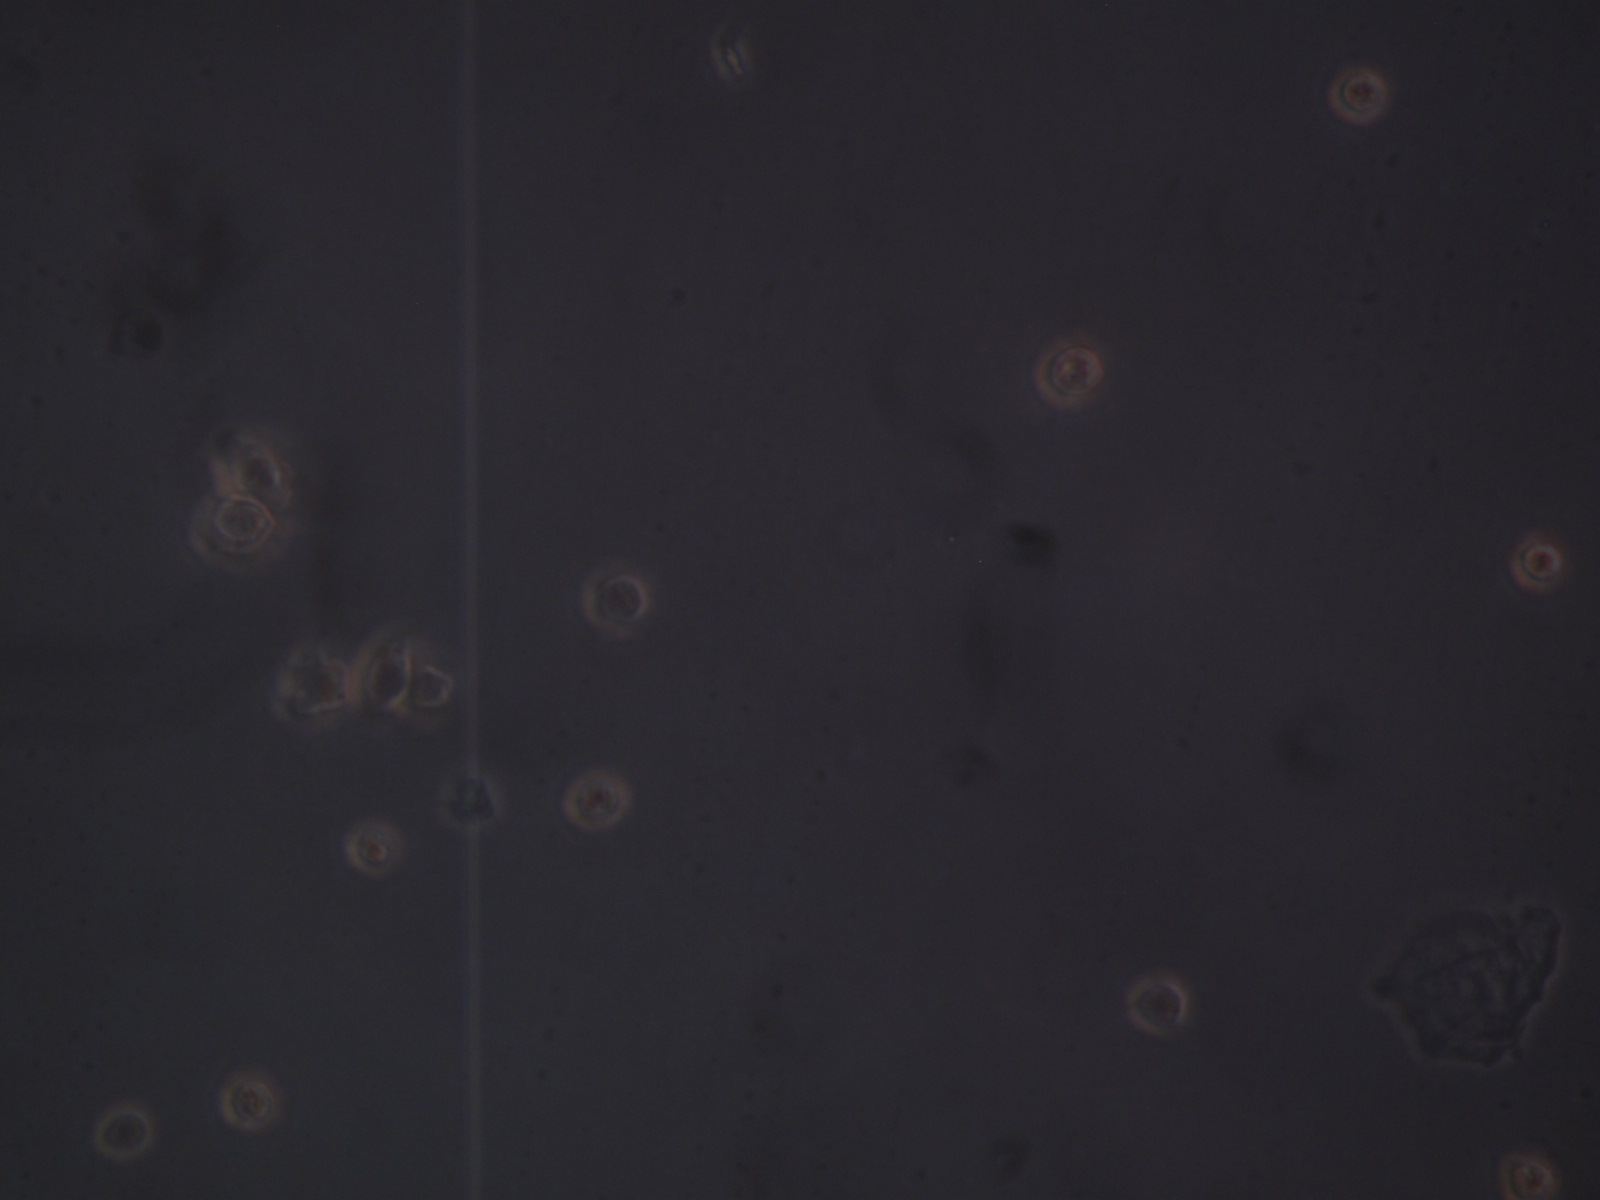hemo: (270, 643, 350, 730), (190, 490, 273, 562), (351, 632, 409, 713), (582, 563, 649, 634), (1036, 339, 1102, 407), (564, 771, 631, 833), (231, 445, 290, 508), (348, 816, 406, 879), (440, 771, 503, 828), (1330, 66, 1390, 125), (220, 1075, 281, 1132), (1126, 976, 1184, 1034), (407, 664, 456, 729), (93, 1109, 152, 1158), (1502, 1156, 1563, 1200), (1513, 539, 1558, 592)
